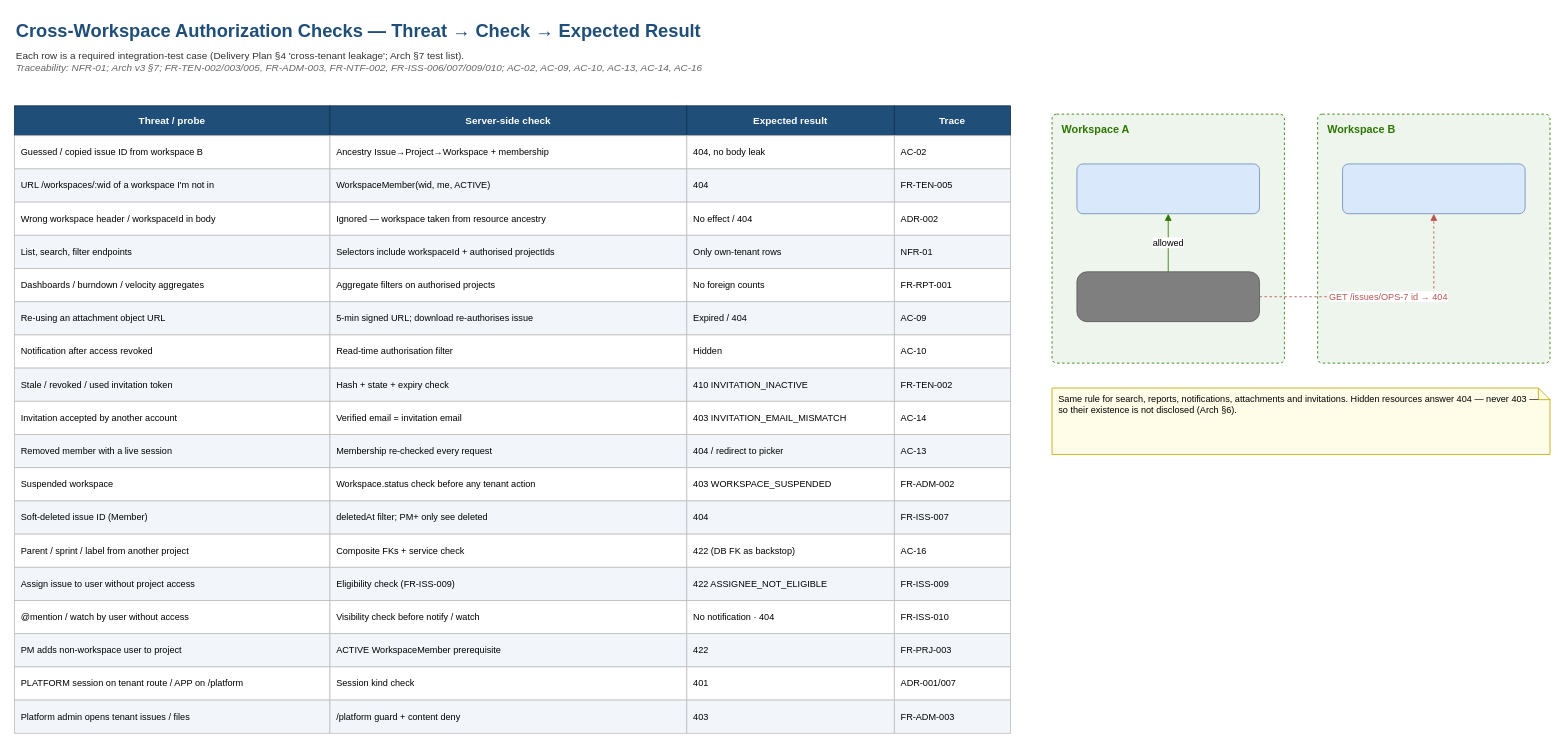
Some shapes in this 1565 by 748 pixel diagram are drawn without their labels. The shapes that lost their labels are listed below. From the top down, each one's centre as x and y in pixels, then its label:
At (1168,188): "Project WEB WEB-12".
At (1433,188): "Project OPS OPS-7".
At (1168,296): "Alice member of A only".
